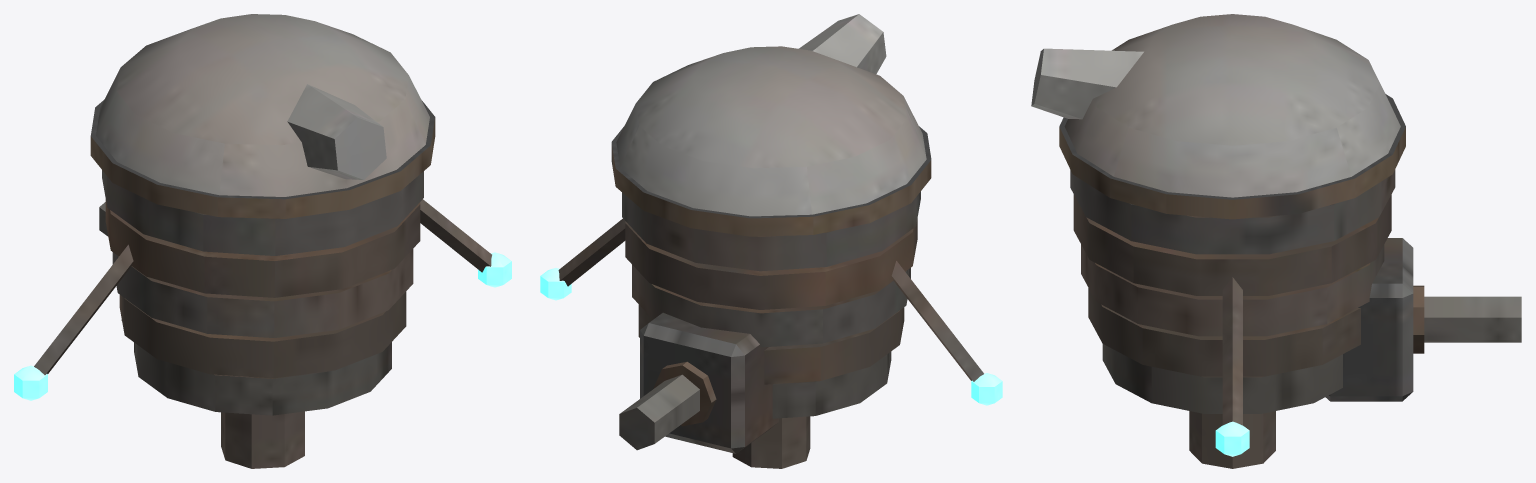
Rendered from defender.glb.
The picture shows the model from 3 angles, left to right: view 1: azimuth 30°, elevation 25°; view 2: azimuth 150°, elevation 25°; view 3: azimuth 270°, elevation 25°; orthographic projection. The views are drawn at different scales.
Parts seen in each view (by area): view 1: body; view 2: body; view 3: body.
Boxes of the visible parts, bbox=[...] form: body: bbox=[14, 14, 511, 468]; body: bbox=[540, 14, 1002, 468]; body: bbox=[1031, 14, 1521, 468].
Size of the model in its own units: 0.7805 by 0.631 by 0.6788.
Materials: 2 (2 with a texture image).
